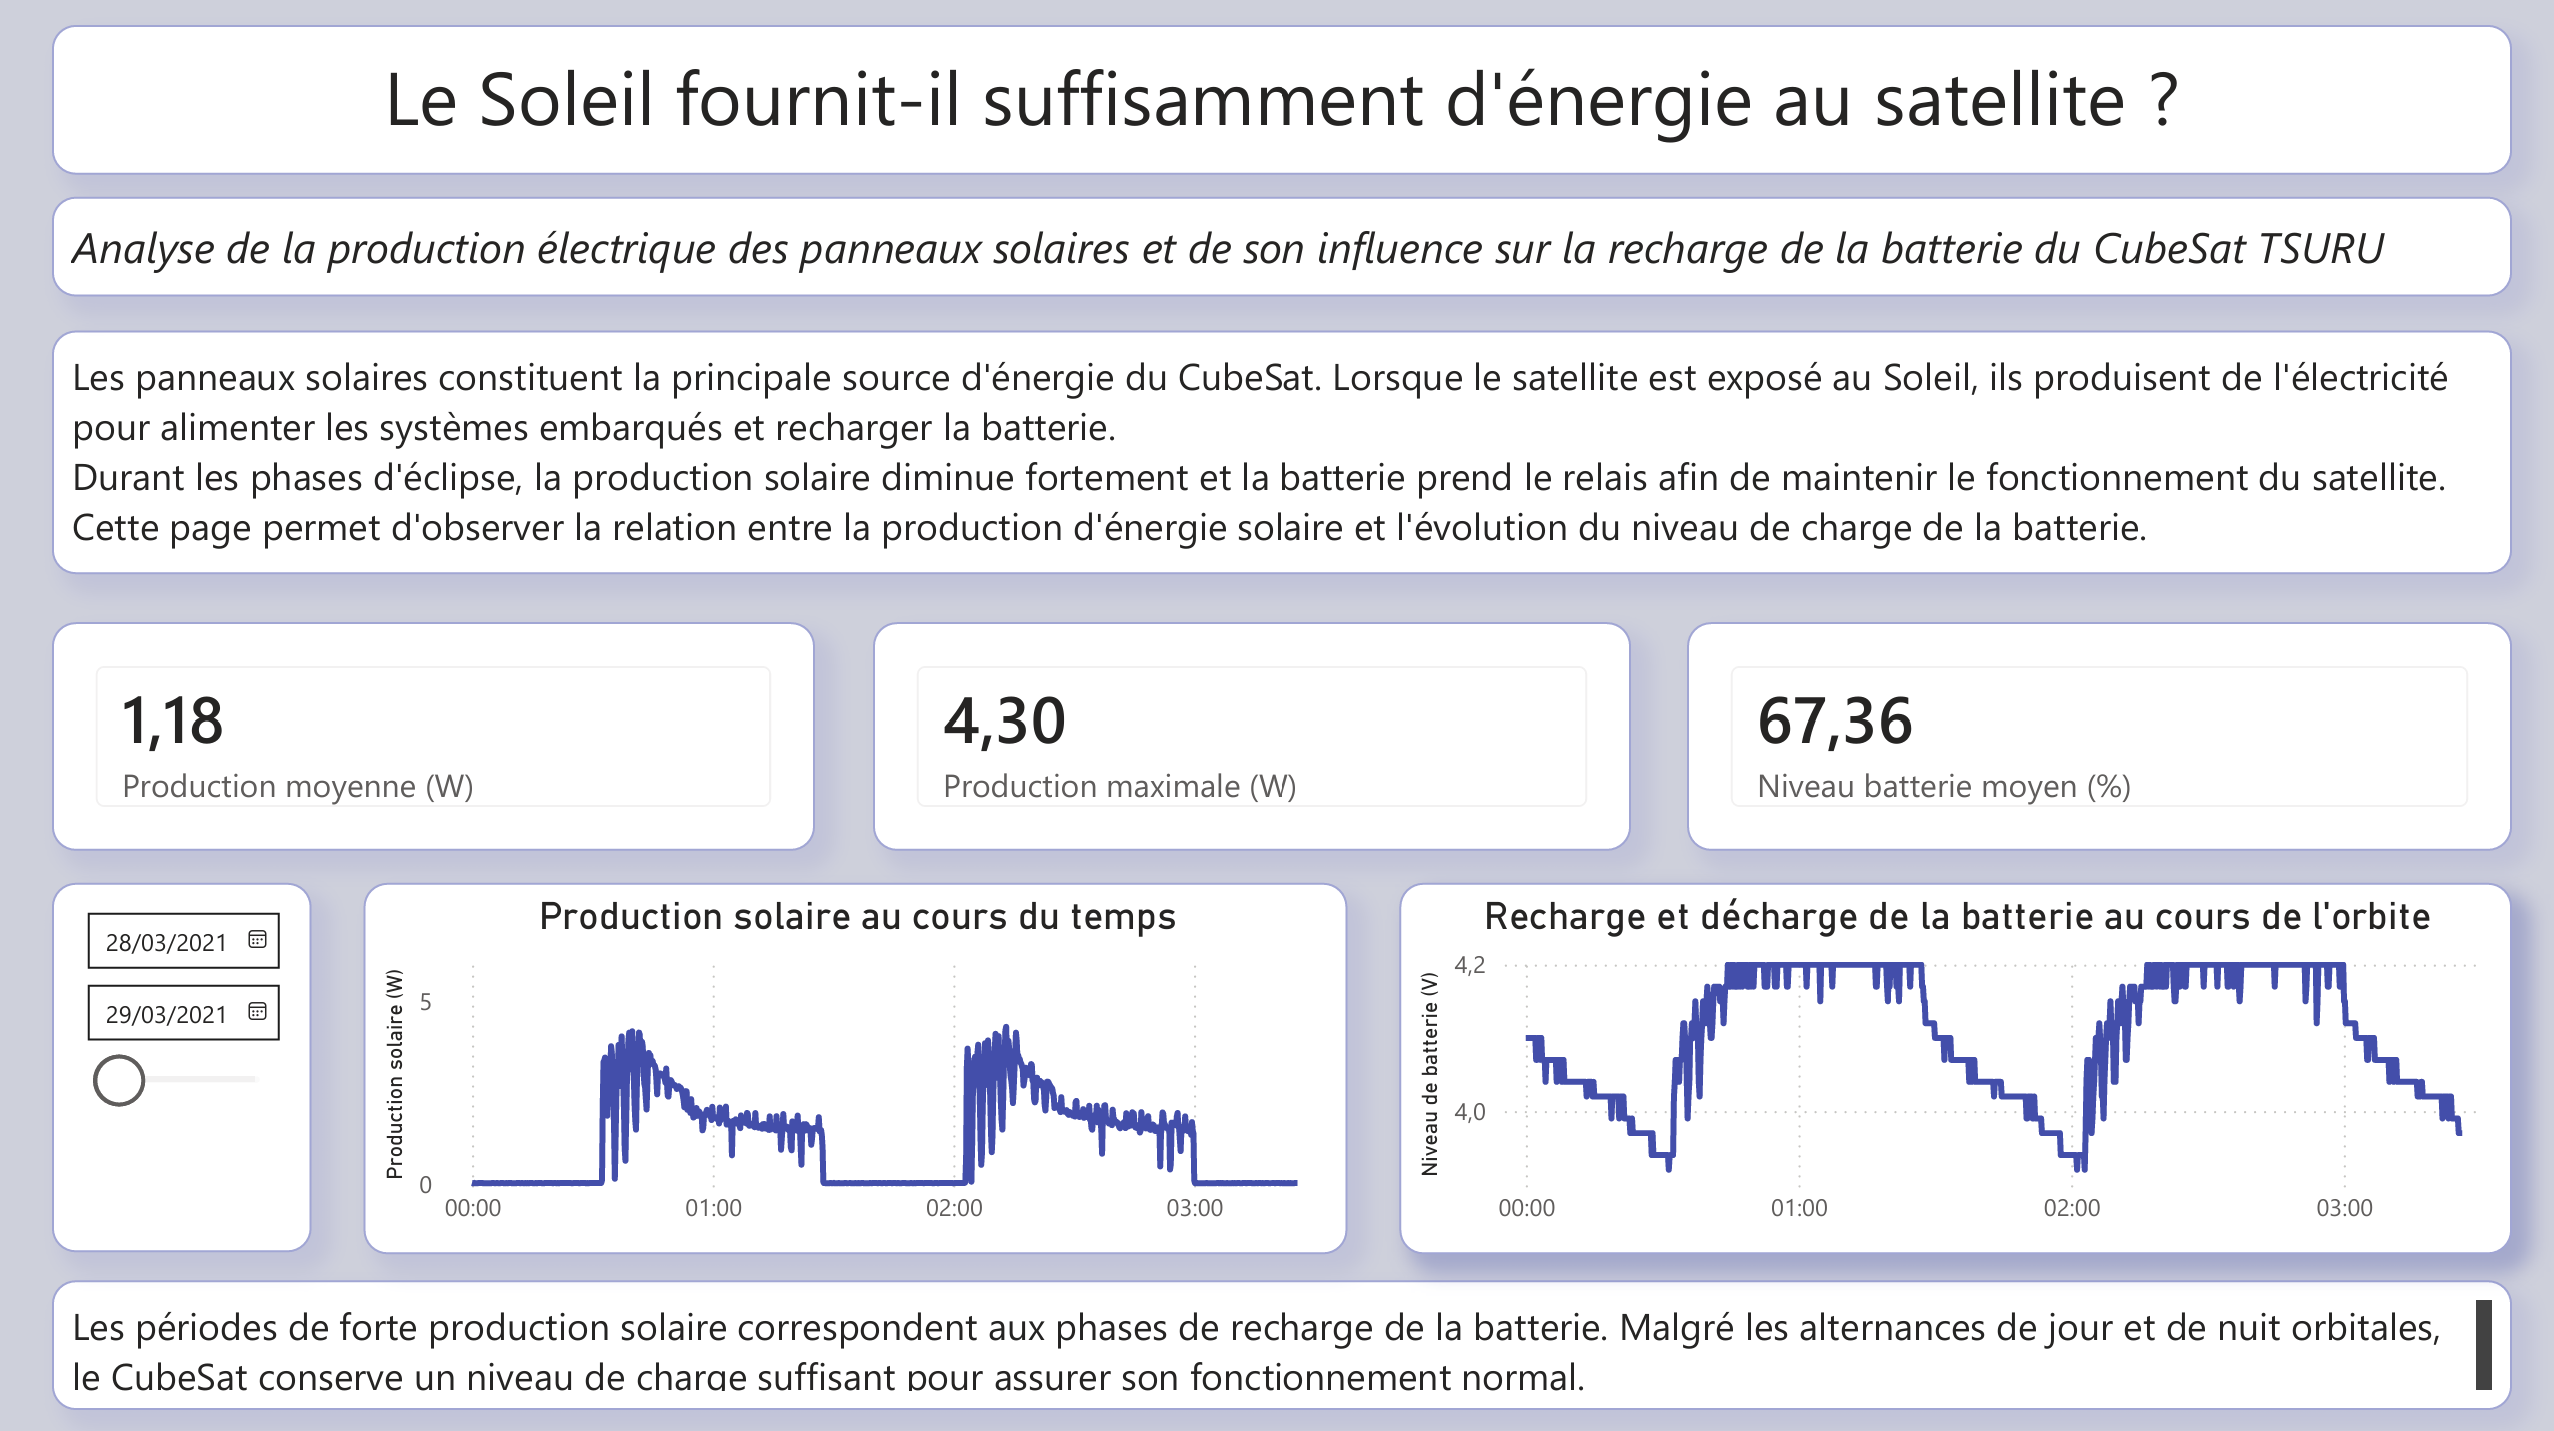

This screenshot's page, from the dashboard's own definition file:
{"tool":"powerbi","page":{"name":"02 D'où vient l'énergie ?","canvas":[1280,720],"ordinal":1},"visuals":[{"type":"textbox","box":[26.4,14.2,1231.2,75.2],"z":0},{"type":"textbox","box":[26.4,166.6,1231.2,121.9],"z":1000},{"type":"textbox","box":[26.4,642,1231.2,65],"z":2000},{"type":"textbox","box":[26.4,99.6,1231.2,50.8],"z":3000},{"type":"cardVisual","fields":{"Data":["BIRDS_Mesures.Production solaire moyenne"]},"box":[26.4,312.9,382,113.8],"z":4000},{"type":"cardVisual","fields":{"Data":["BIRDS_Mesures.Production solaire max"]},"box":[436.8,312.9,379.9,113.8],"z":5000},{"type":"cardVisual","fields":{"Data":["BIRDS_Mesures.Batterie moyenne"]},"box":[845.2,312.9,412.4,113.8],"z":6000},{"type":"lineChart","title":"Production solaire au cours du temps","fields":{"Y":["Sum(BIRDS_Fact_eps_telemetry.solar_power_W)"],"Category":["BIRDS_Fact_eps_telemetry.measurement_datetime"]},"box":[182.1,443.3,493.2,185.6],"z":7000},{"type":"lineChart","title":"Recharge et décharge de la batterie au cours de l''orbite","fields":{"Y":["Sum(BIRDS_Fact_eps_telemetry.battery_voltage_V)"],"Category":["BIRDS_Fact_eps_telemetry.measurement_datetime"]},"box":[701,443.3,556.9,185.6],"z":8000},{"type":"slicer","fields":{"Values":["BIRDS_Fact_eps_telemetry.measurement_datetime"]},"box":[26.4,442.9,130,184.9],"z":9000}]}

Visuals, with their boxes in screenshot pixels (x1, y1, x2, y2), scaled from the page's 1280x720 canvas onto the 2554x1431 screenshot:
textbox: (53, 28, 2509, 178)
textbox: (53, 331, 2509, 573)
textbox: (53, 1276, 2509, 1405)
textbox: (53, 198, 2509, 299)
cardVisual - BIRDS_Mesures.Production solaire moyenne: (53, 622, 815, 848)
cardVisual - BIRDS_Mesures.Production solaire max: (872, 622, 1630, 848)
cardVisual - BIRDS_Mesures.Batterie moyenne: (1686, 622, 2509, 848)
"Production solaire au cours du temps" lineChart: (363, 881, 1347, 1250)
"Recharge et décharge de la batterie au cours de l''orbite" lineChart: (1399, 881, 2510, 1250)
slicer - BIRDS_Fact_eps_telemetry.measurement_datetime: (53, 880, 312, 1248)
